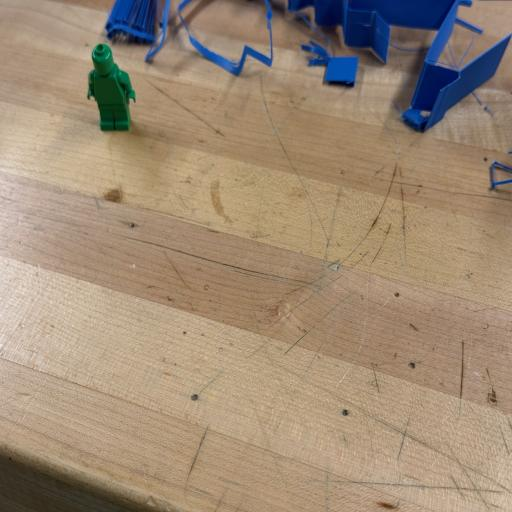Lego-Dude: (87, 44, 135, 131)
